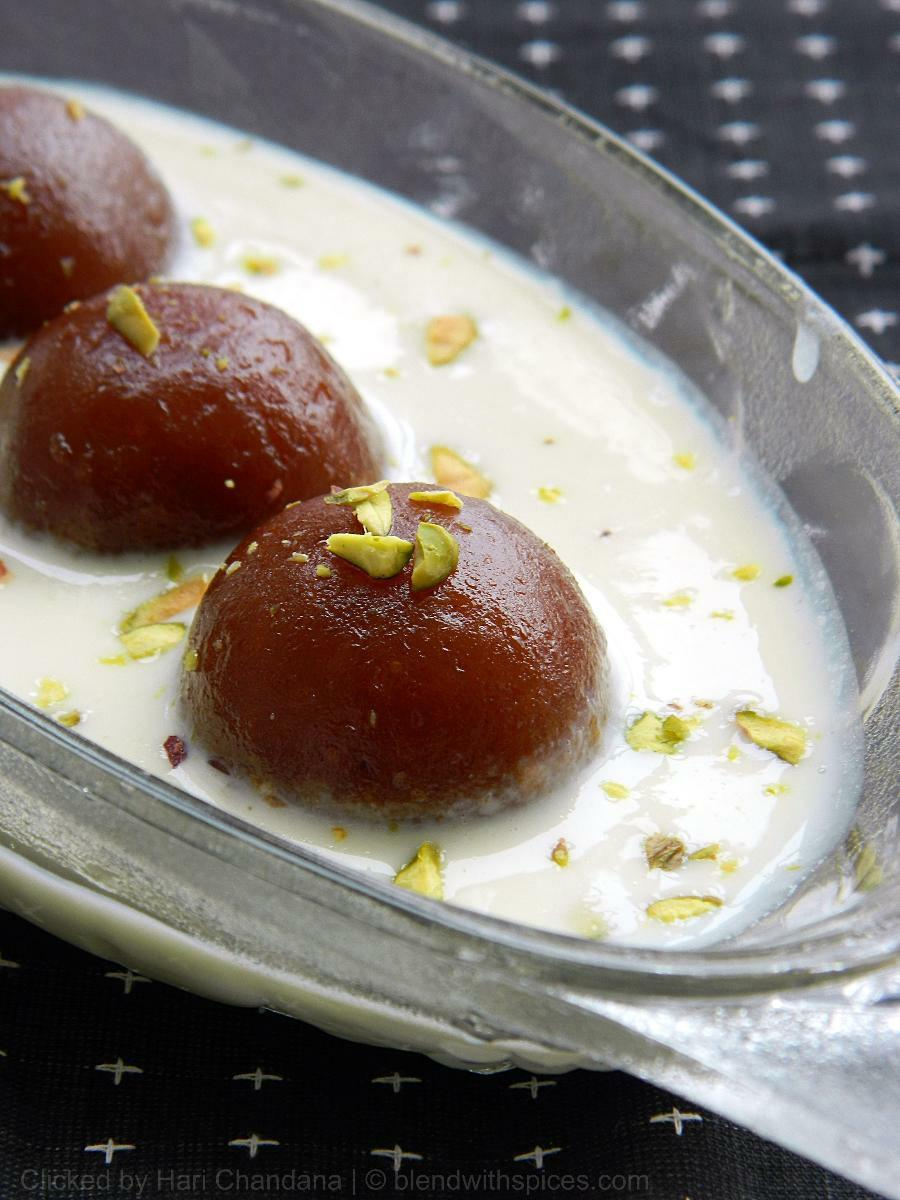GulabJamun: (182, 480, 615, 827), (0, 277, 395, 556), (0, 67, 176, 336)
